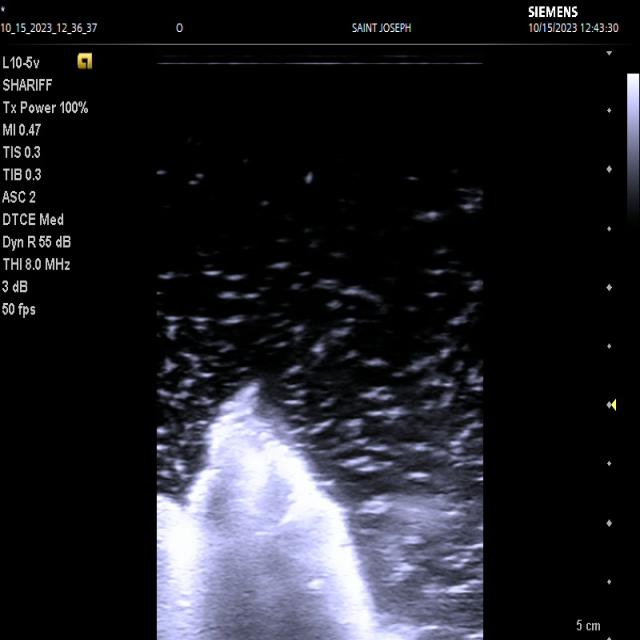tissue: (156, 380, 380, 640)
